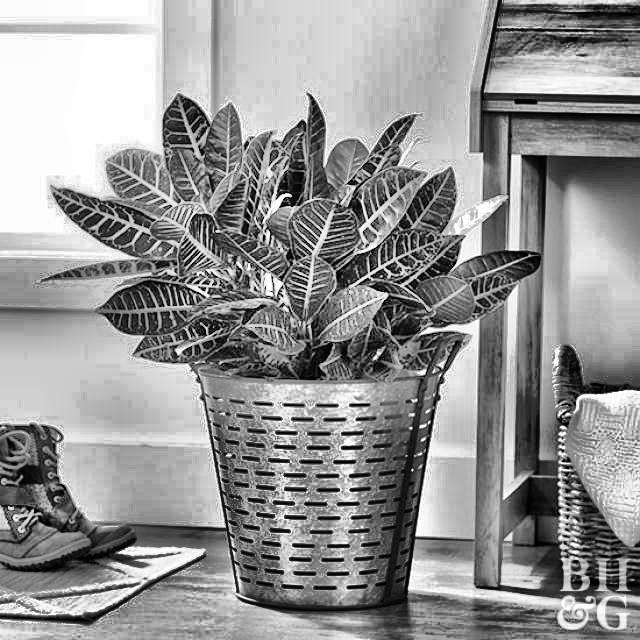plants: (58, 104, 520, 606)
